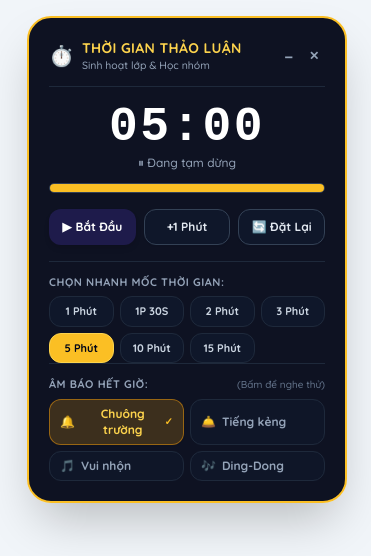
ClassroomTimerWidget Component › thay đổi thời gian đếm ngược khi chọn mốc khác
This screenshot has width=371, height=556.
Click the button "2 Phút": (222, 312) x1=190 y1=296 x2=254 y2=327
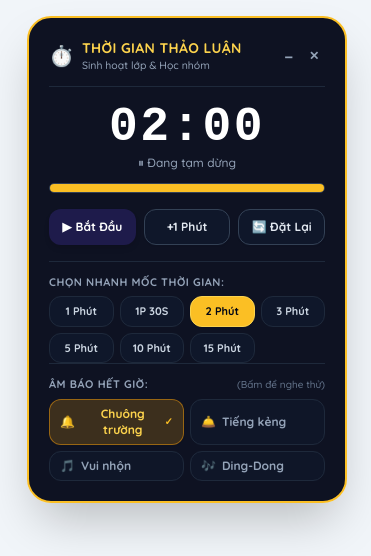
expect the text "02:00" is shown: met, box x1=109 y1=100 x2=265 y2=154
Click the button "1P 30S": (152, 312) x1=120 y1=296 x2=184 y2=327
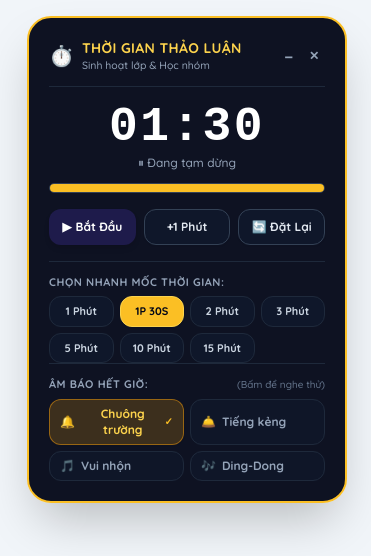
expect the text "01:30" is shown: met, box x1=109 y1=100 x2=265 y2=154
